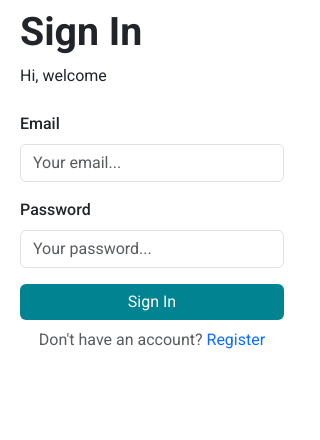
Test: Login spec › should display alert when username is empty
Type "somepassword" into the password field named "password" at [152, 249], box [20,230,284,268]
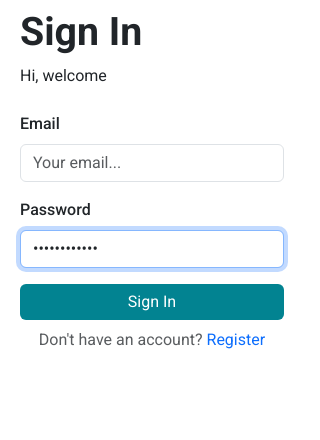
Click the submit button at [152, 302], box [20,284,284,320]
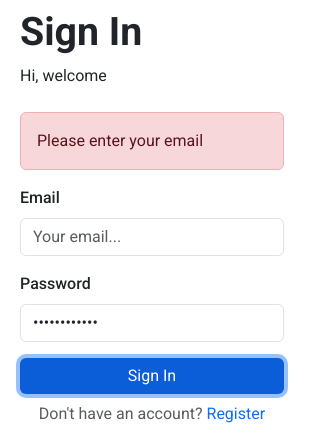
Now the text "Please enter your email" is shown, box [20,112,284,170]
